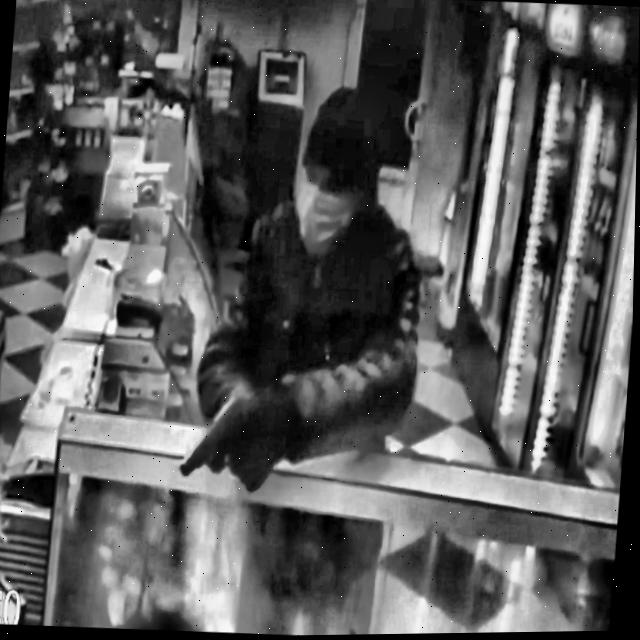pistol: (169, 385, 273, 495)
robbery: (160, 51, 455, 637)
